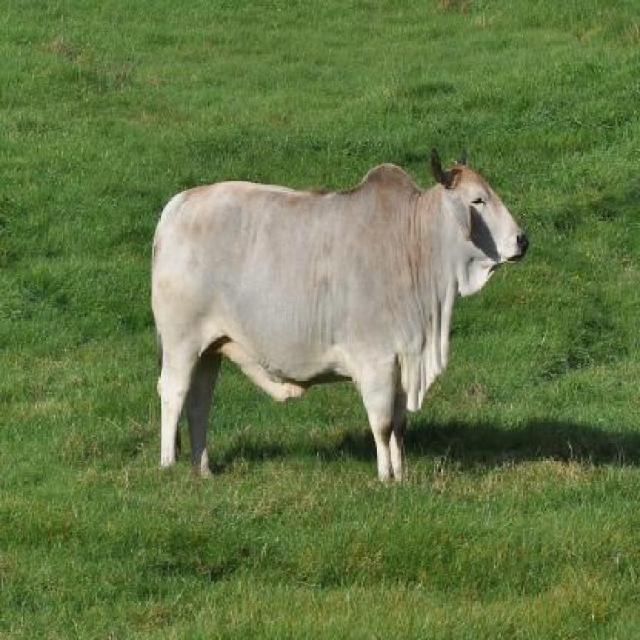Cow: (148, 151, 529, 492)
